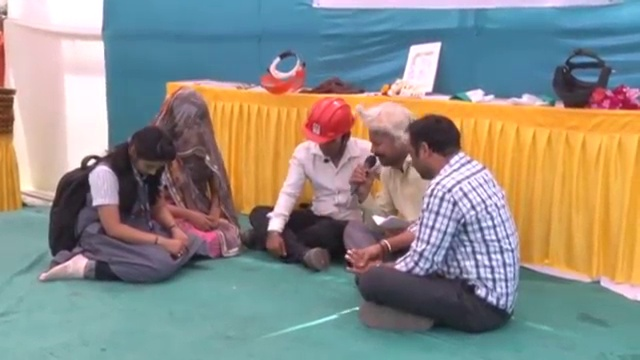helmet: (301, 97, 358, 148)
helmet_off: (406, 112, 465, 182), (159, 88, 214, 157), (361, 103, 412, 173), (122, 125, 176, 184)
helmet_on: (304, 99, 363, 163)
person: (339, 105, 504, 329), (41, 120, 199, 285), (245, 99, 371, 267), (148, 79, 240, 260), (344, 108, 432, 268)
